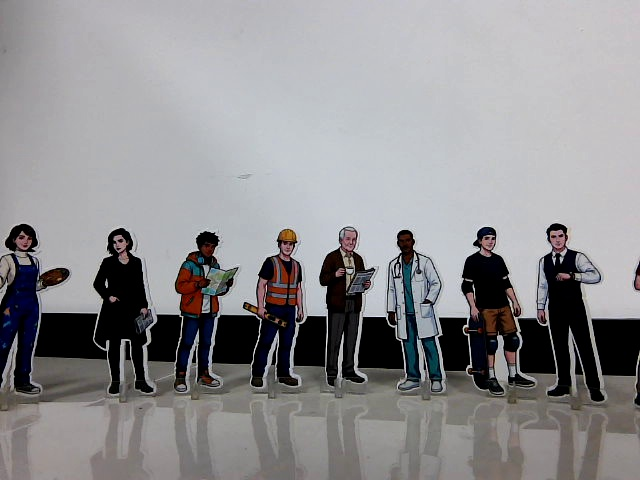community_person: (532, 216, 612, 414), (85, 221, 161, 409), (456, 219, 530, 408), (0, 216, 71, 411), (167, 224, 240, 405), (382, 223, 452, 408), (241, 222, 310, 406), (315, 221, 380, 404), (625, 216, 640, 424)
